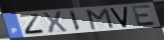E: (130, 3, 158, 27)
I: (68, 10, 82, 32)
M: (85, 7, 116, 31)
V: (109, 5, 129, 29)
X: (41, 11, 69, 35)
Z: (18, 13, 47, 36)
